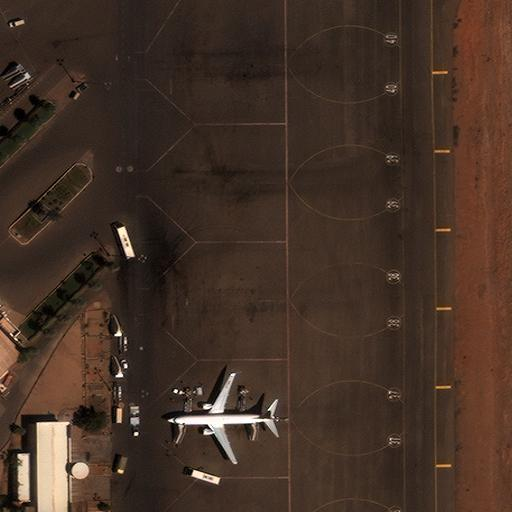Medium Civil Transport: (166, 371, 287, 464)
